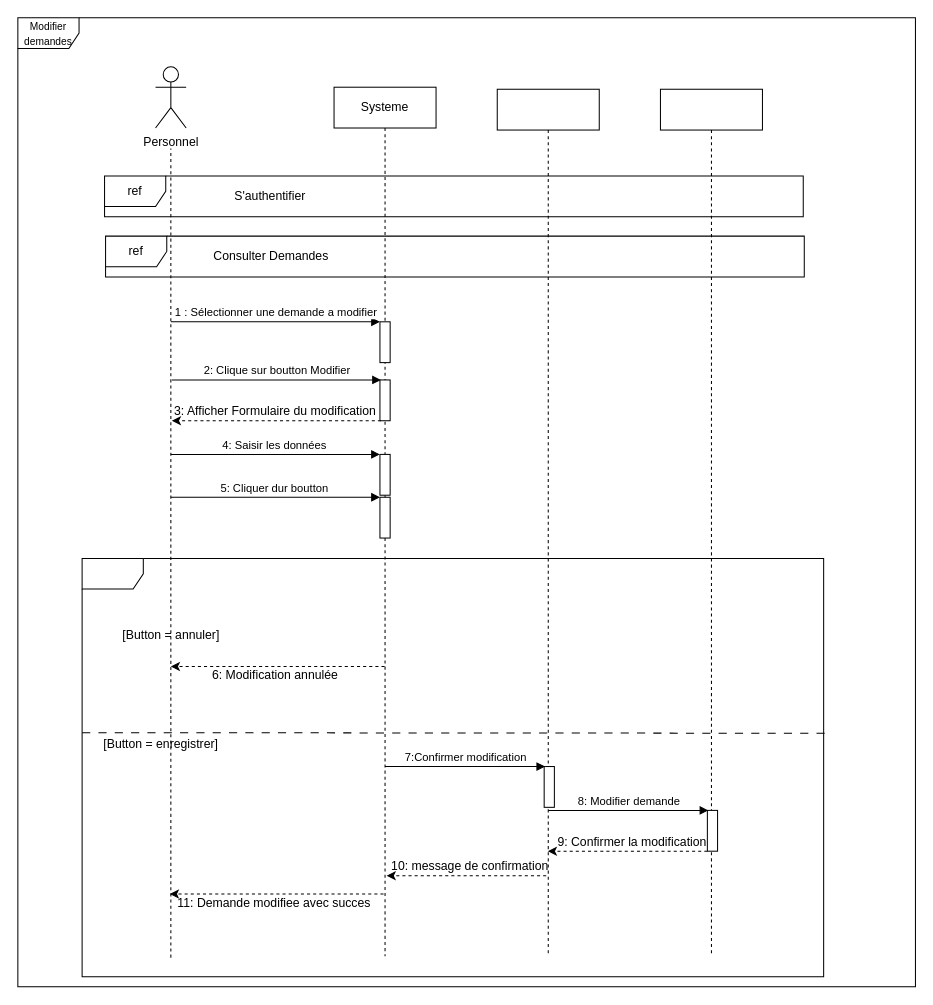
This 933x1005 diagram has some shape labels left out. Here are the shapes that lost their labels. From the top down, the box of each, then its label:
(496, 88, 599, 956): Controlleur
(659, 88, 762, 956): Base de données
(81, 557, 824, 977): alt
